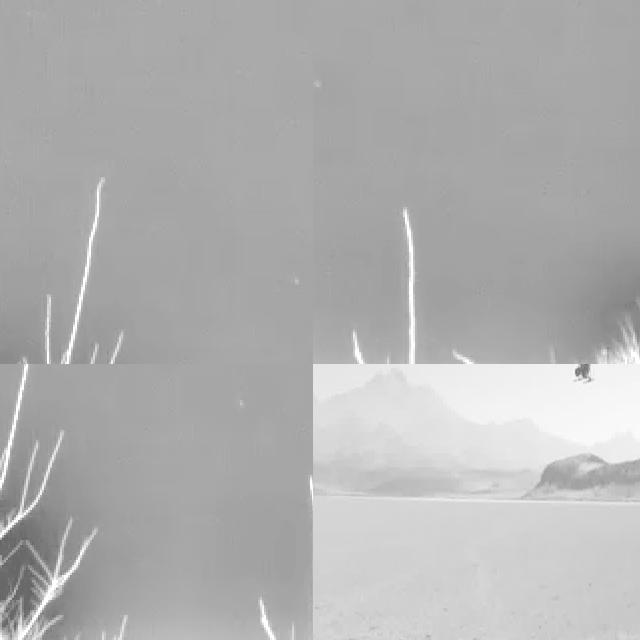0: (232, 390, 256, 422), (287, 268, 309, 301), (313, 73, 330, 100)
drone: (554, 364, 616, 382)
